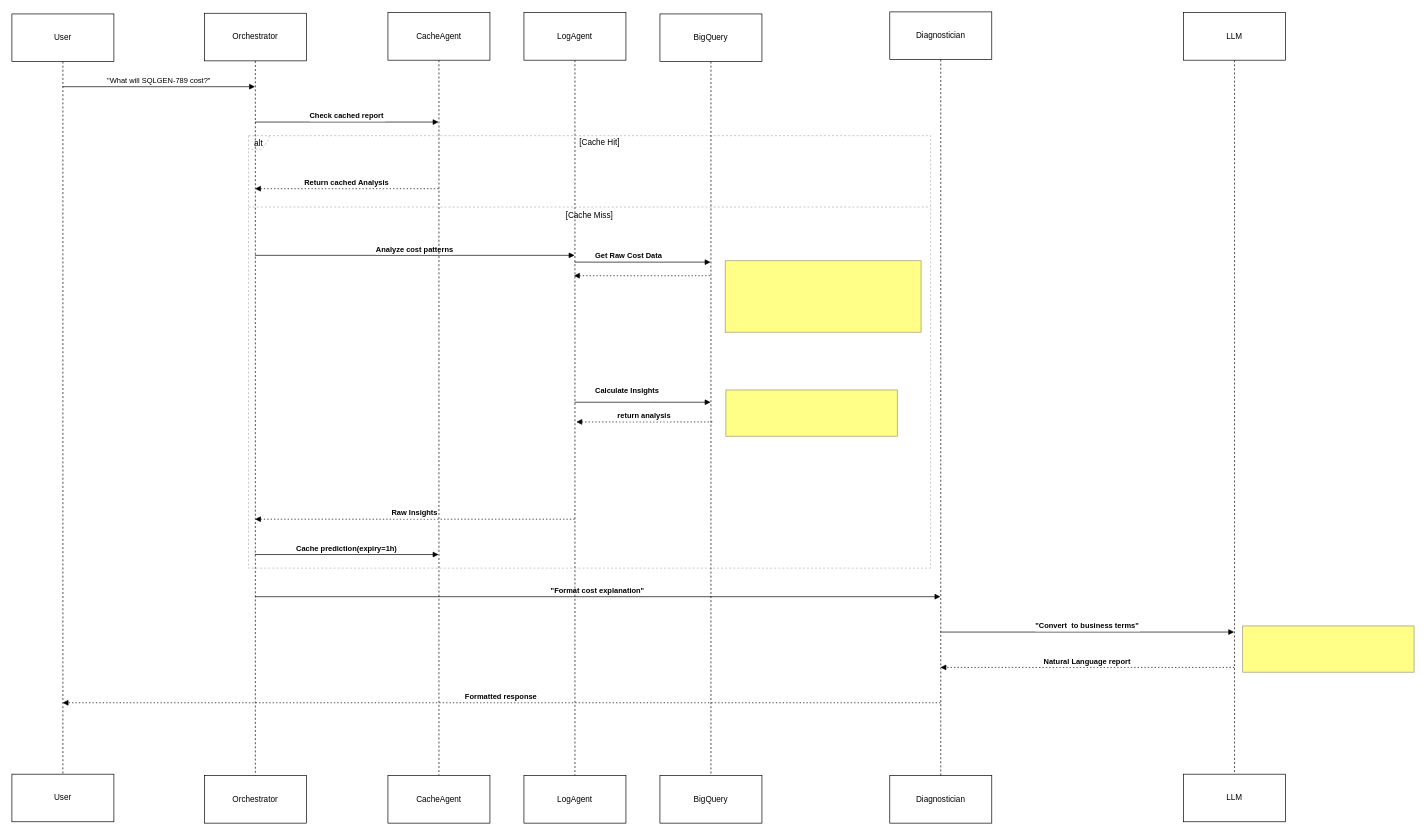
Image size: 1426x835. Some labels were removed from this diagram. The box of each missing label's shape, as (x1, y1, x2, y2) in pixels:
1. Basic Costs 2. Peer Comparision 3. Trend Analysis: (725, 260, 921, 332)
convert data to narrative with recommendation Anomoly predicion: (1242, 625, 1414, 672)
ML_ANALYZE_MODEL FORECASE, ANOMOLY, DETECTION: (725, 389, 897, 436)
